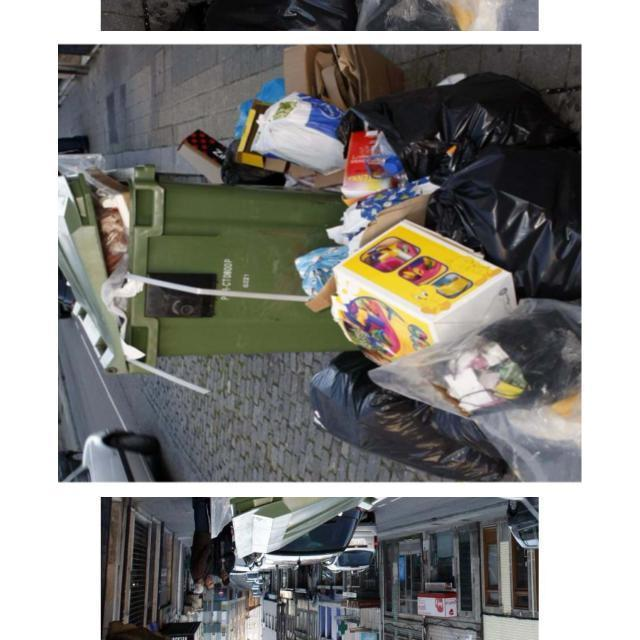Trashbag: (307, 356, 503, 478), (342, 68, 562, 168), (428, 152, 582, 276)
